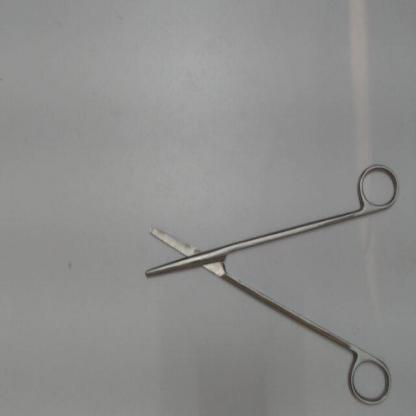9 Metzenbaum Scissors: (141, 157, 402, 412)
